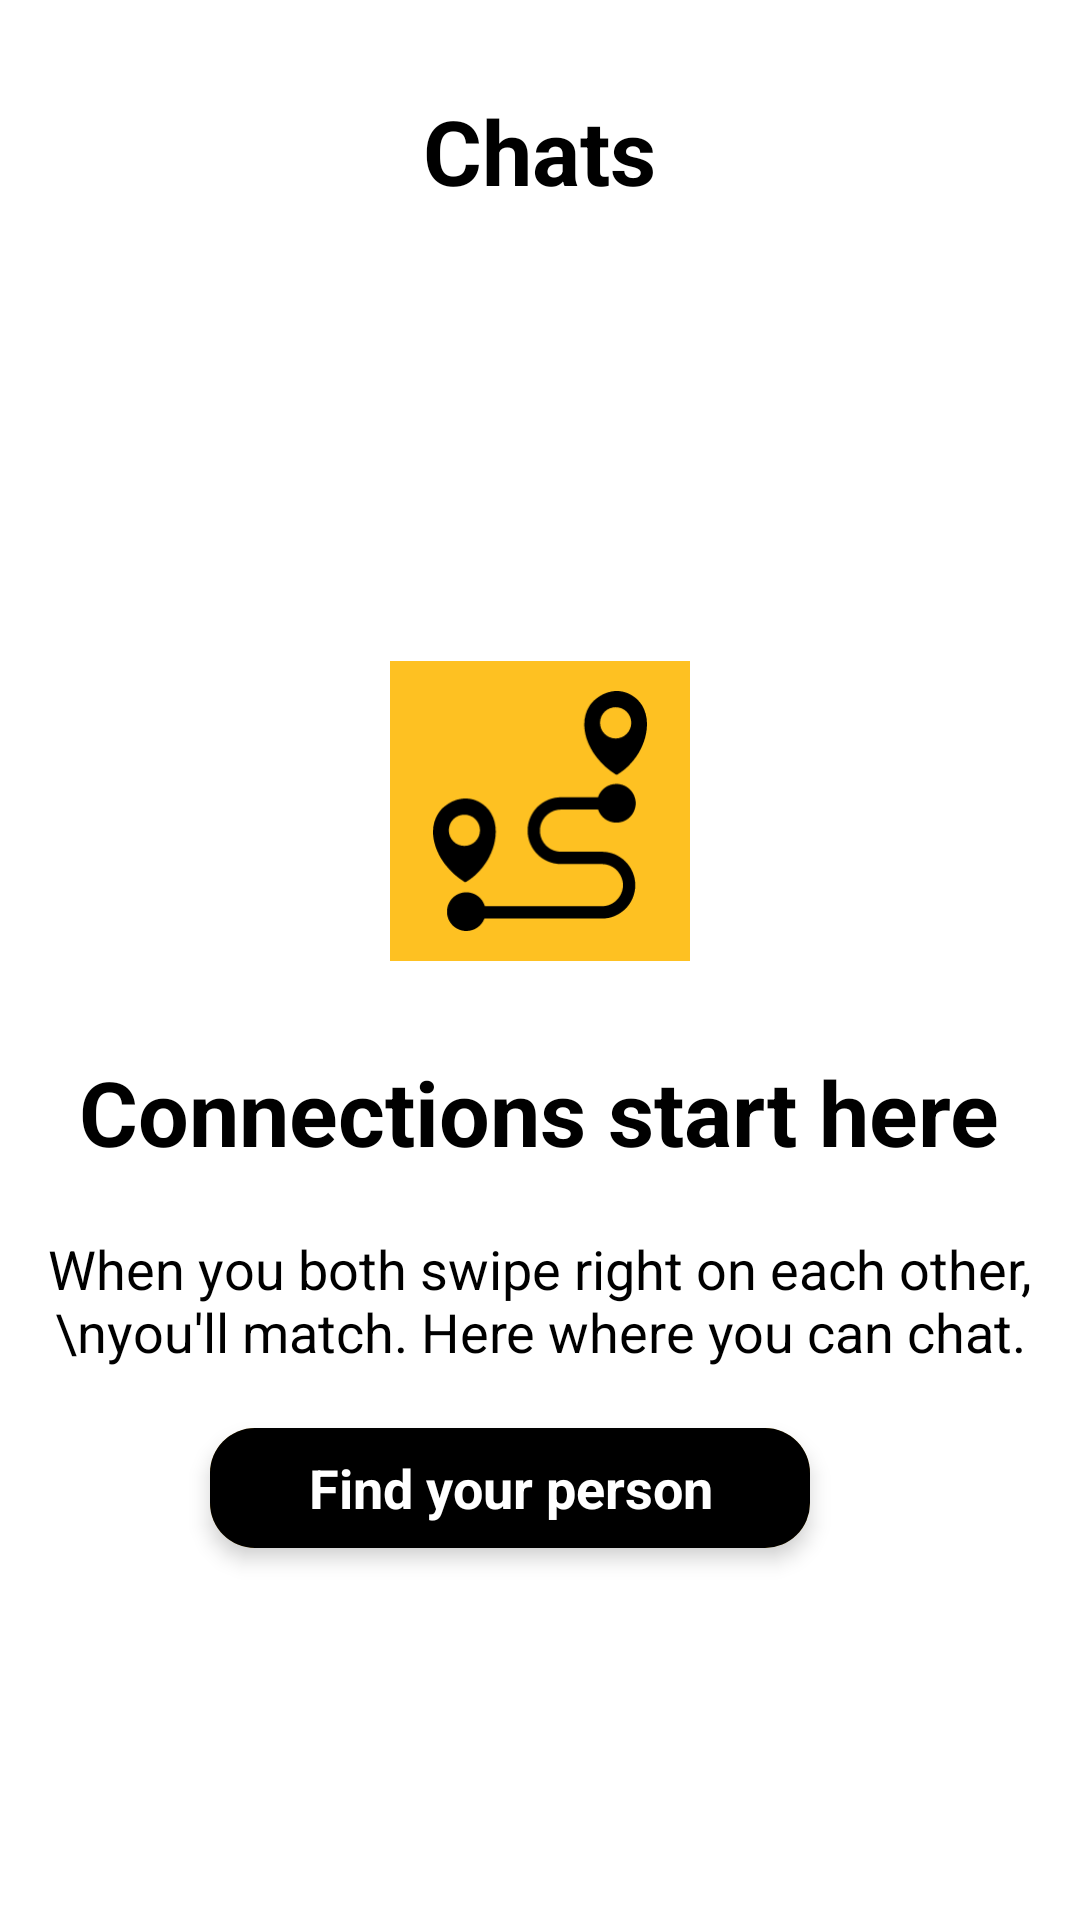

Named icons in this screenshot (1080px x 1920px) and their centers, [x,y]:
map: [540,811]
